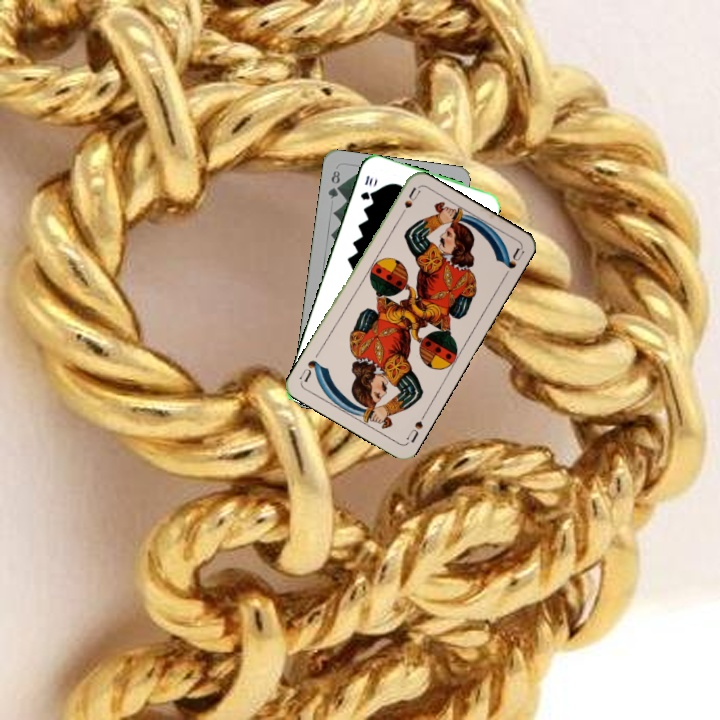G10: (356, 171, 376, 203)
G8: (324, 166, 343, 201)
SU: (394, 184, 423, 222), (402, 409, 429, 446)
